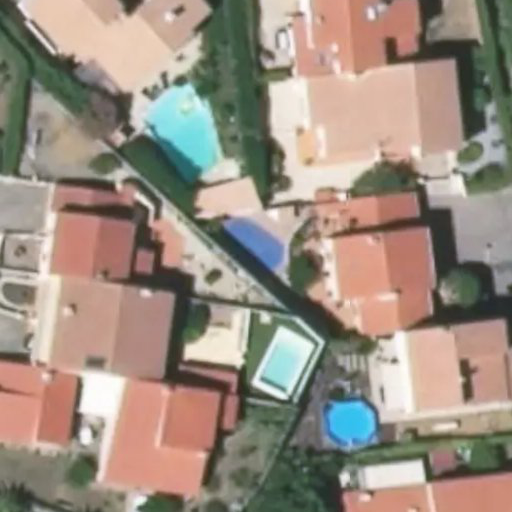pool: (224, 230, 290, 248)
